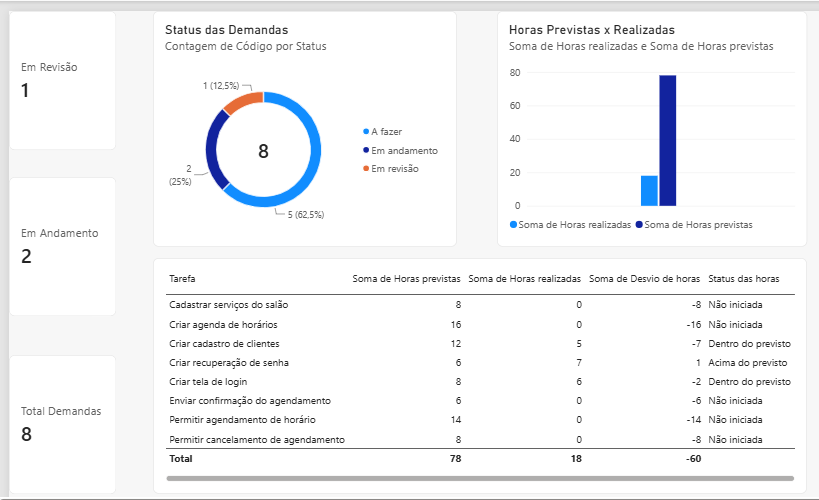

The dashboard page shown, as its layout file describes it:
{"tool":"powerbi","page":{"name":"Página 1","canvas":[1920,1080],"ordinal":0},"visuals":[{"type":"cardVisual","fields":{"Data":["Tabela2.Em Revisão"]},"box":[10,0,280,280],"z":0},{"type":"cardVisual","fields":{"Data":["Tabela2.Em Andamento"]},"box":[346.8,0,280,280],"z":1},{"type":"cardVisual","fields":{"Data":["Tabela2.Total Demandas"]},"box":[679,0,280,280],"z":2},{"type":"donutChart","title":"Status das Demandas","fields":{"Category":["Tabela2.Status"],"Y":["CountNonNull(Tabela2.Código)"]},"box":[38.7,350,411.3,332.3],"z":3},{"type":"clusteredColumnChart","title":"Horas Previstas x Realizadas","fields":{"Y":["Sum(Tabela2.Horas realizadas)","Sum(Tabela2.Horas previstas)"]},"box":[550,350,409.7,332.3],"z":4},{"type":"tableEx","fields":{"Values":["Tabela2.Tarefa","Sum(Tabela2.Horas previstas)","Sum(Tabela2.Horas realizadas)","Sum(Tabela2.Desvio de horas)","Tabela2.Status das horas"]},"box":[38.7,748.4,921,332.3],"z":5}]}

Visuals, with their boxes on the page's 1920x1080 design canvas (x1, y1, x2, y2). These are canvas units, not pixel positions in the 819x500 screenshot, which may show the page scaled, cropped or inside an application window:
cardVisual - Tabela2.Em Revisão: (10, 0, 290, 280)
cardVisual - Tabela2.Em Andamento: (347, 0, 627, 280)
cardVisual - Tabela2.Total Demandas: (679, 0, 959, 280)
"Status das Demandas" donutChart: (39, 350, 450, 682)
"Horas Previstas x Realizadas" clusteredColumnChart: (550, 350, 960, 682)
tableEx - Tabela2.Tarefa x Sum(Tabela2.Horas previstas): (39, 748, 960, 1081)
